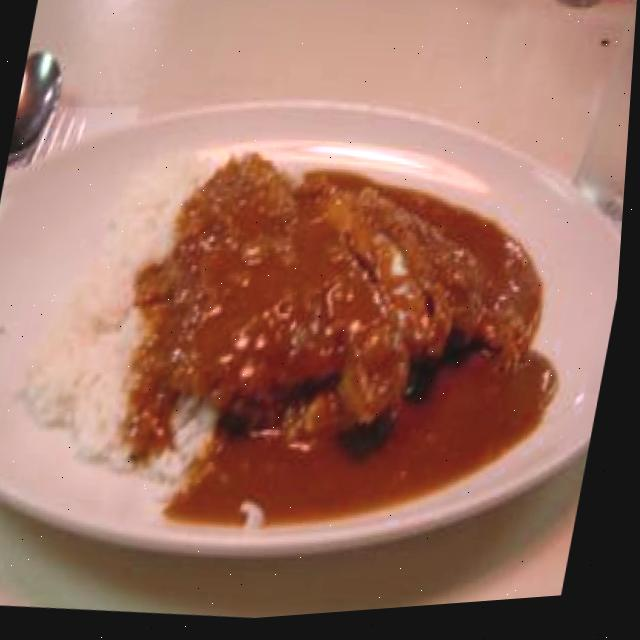猪肉菜式: (0, 12, 637, 639)
